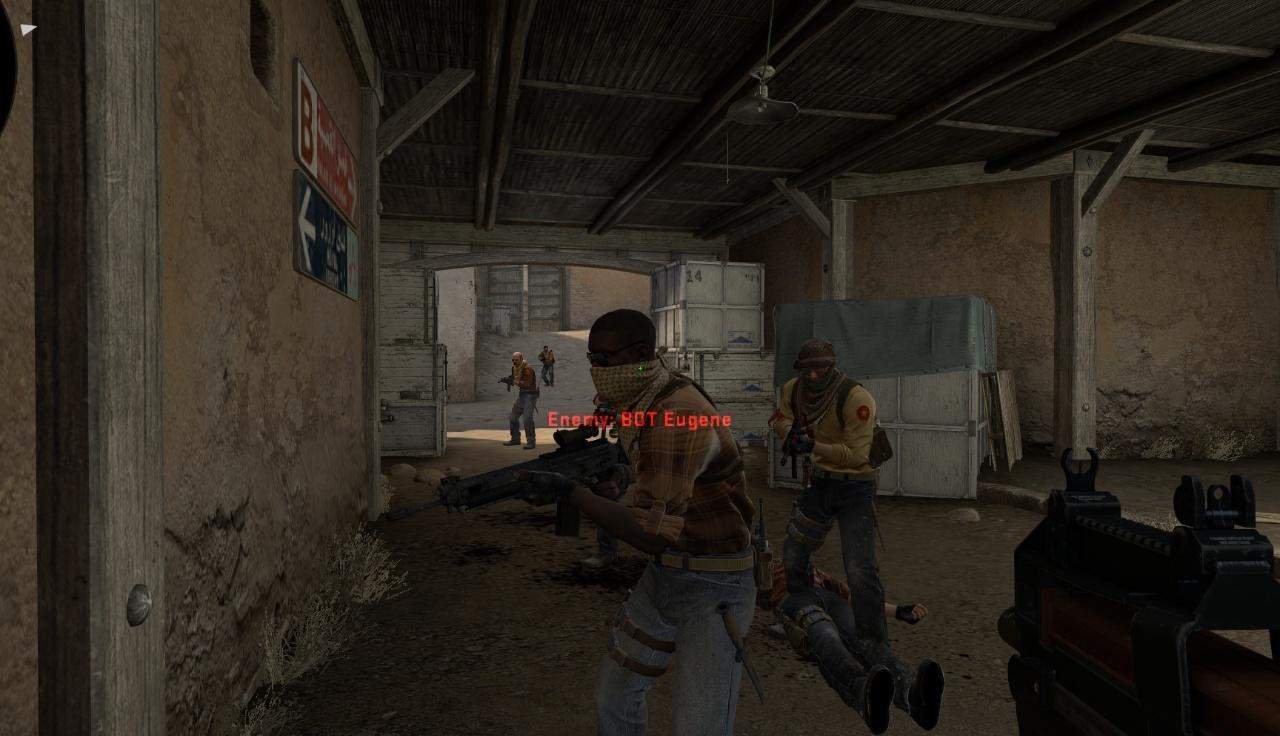rifle: (996, 445, 1280, 736)
tt: (553, 307, 757, 736), (769, 339, 890, 658), (503, 352, 537, 450), (538, 345, 555, 387)
tthead: (589, 309, 654, 400), (797, 341, 837, 391), (512, 352, 523, 367), (543, 346, 549, 352)
